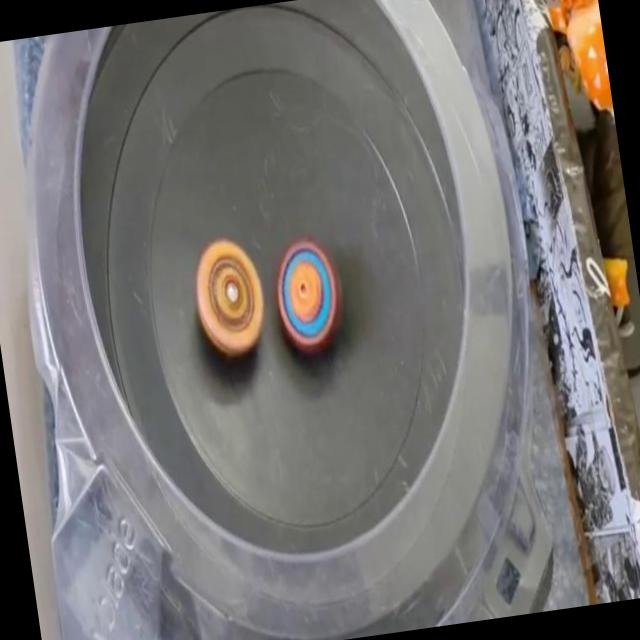Beyblade: (187, 236, 271, 360), (270, 237, 348, 359)
